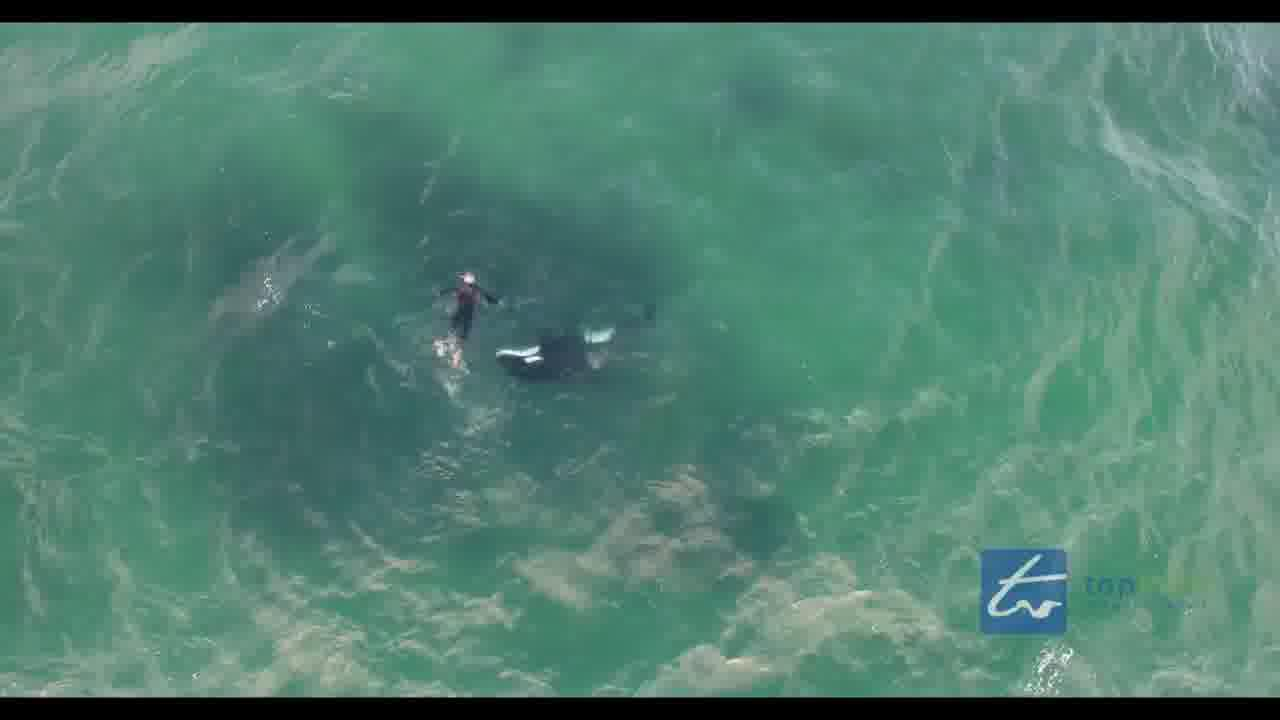swimmer: (431, 267, 503, 366)
